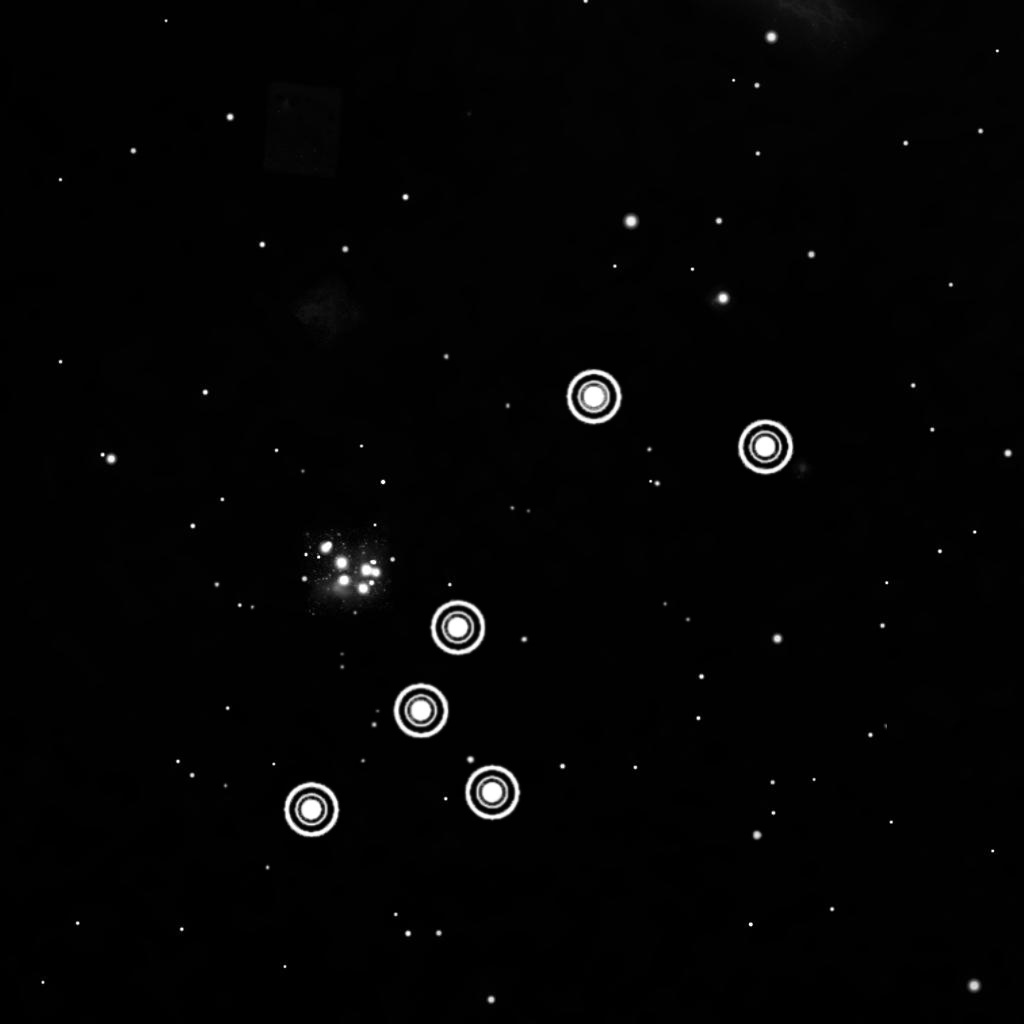canis_major: (274, 359, 805, 853)
